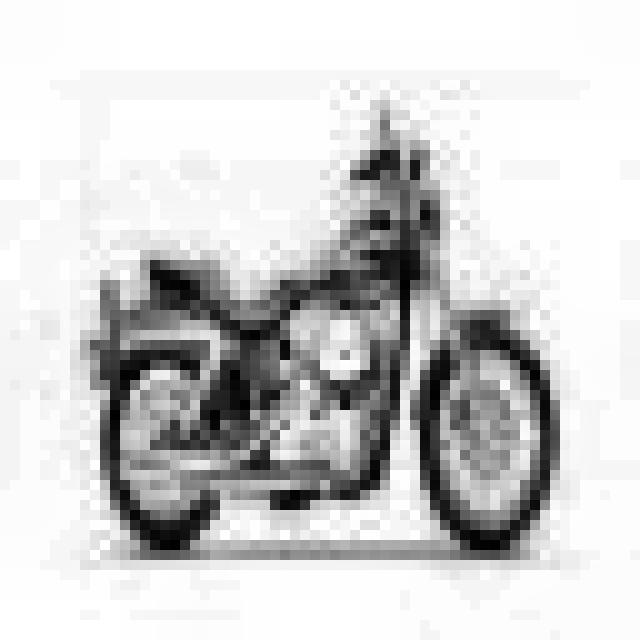mopeds: (75, 144, 573, 559)
